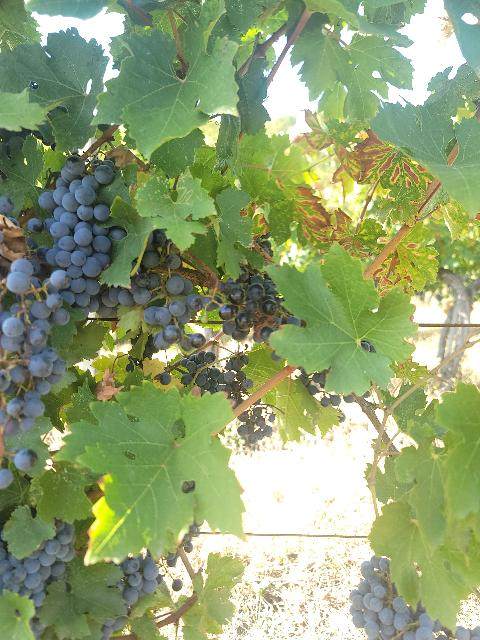grapes: (0, 258, 70, 435), (38, 155, 115, 296), (0, 520, 75, 611), (349, 556, 419, 640), (222, 266, 282, 342), (180, 352, 220, 394)
